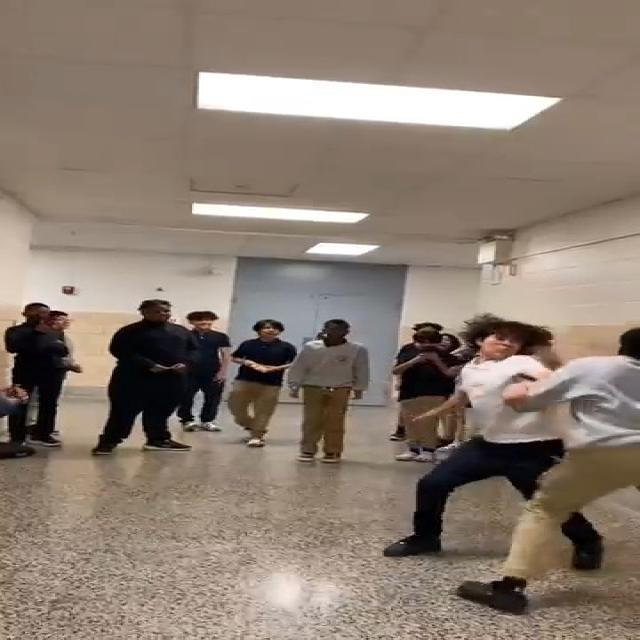fight: (389, 316, 640, 615)
